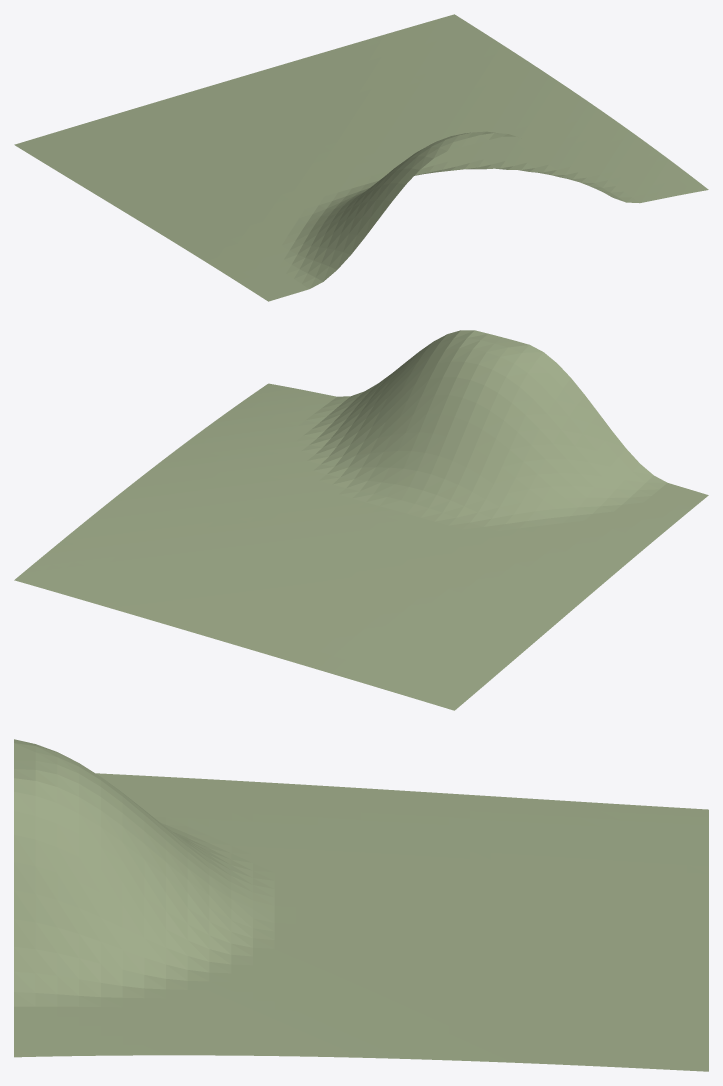
File: expanse-5-24.glb
3 renders of one model, top to bottom at view 1: azimuth 30°, elevation 25°; view 2: azimuth 150°, elevation 25°; view 3: azimuth 270°, elevation 25°, orthographic. The views are drawn at different scales.
Parts seen in each view (by area): view 1: expanse-5-24; view 2: expanse-5-24; view 3: expanse-5-24.
Boxes of the visible parts, x1,y1,x2,y2 form: expanse-5-24: (14,14,708,301); expanse-5-24: (14,330,708,710); expanse-5-24: (14,739,708,1071).
Bounding box in the file's own units: 256 × 76.15 × 256.
